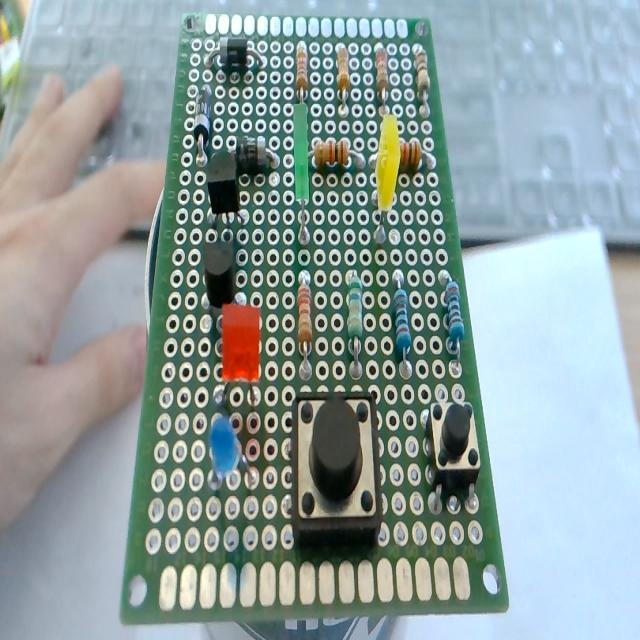diode: (206, 31, 264, 78), (229, 127, 274, 171), (191, 79, 209, 157)
led: (213, 300, 266, 409), (201, 412, 258, 496), (370, 113, 404, 243), (289, 103, 319, 245)
resistor: (383, 266, 419, 372), (439, 261, 468, 376), (294, 268, 318, 372), (313, 134, 363, 182), (346, 260, 366, 372), (328, 35, 352, 117), (369, 33, 393, 115), (407, 38, 432, 116), (290, 30, 314, 110)
switch: (282, 381, 386, 551), (424, 391, 486, 502)
transistor: (202, 148, 254, 228), (195, 240, 252, 308)
